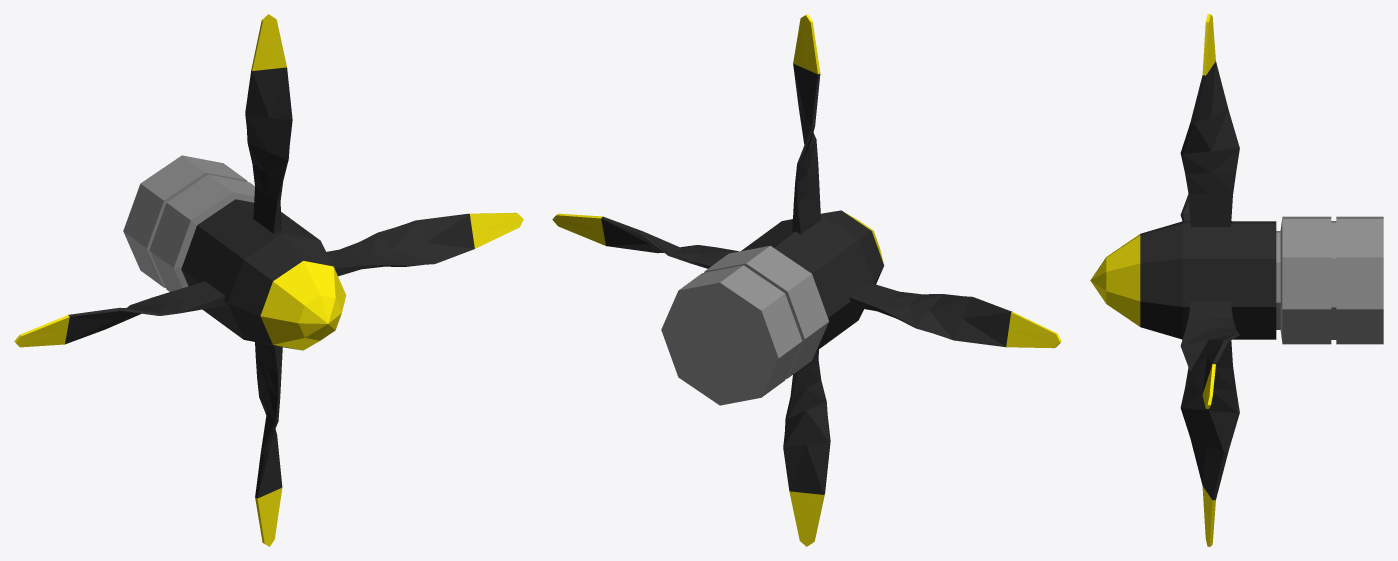
Rendered from propeller.gltf.
3 renders of one model, left to right at view 1: azimuth 30°, elevation 25°; view 2: azimuth 150°, elevation 25°; view 3: azimuth 270°, elevation 25°, orthographic.
Parts seen in each view (by area): view 1: node-0; view 2: node-0; view 3: node-0.
Boxes of the visible parts, left/top/right/bottom form: node-0: left=14, top=14, right=523, bottom=546; node-0: left=552, top=14, right=1061, bottom=546; node-0: left=1090, top=14, right=1383, bottom=546.
Bounding box in the file's own units: 9.34 × 9.34 × 4.66.
